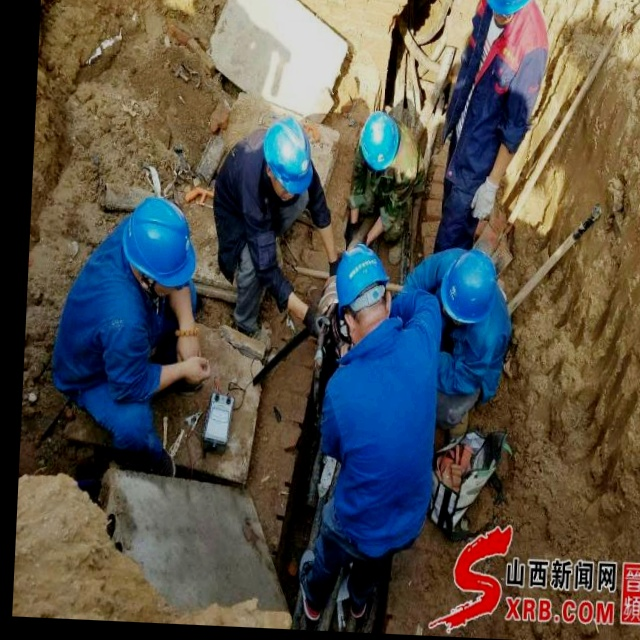Con_Casco: (123, 195, 201, 297), (263, 115, 317, 201)
